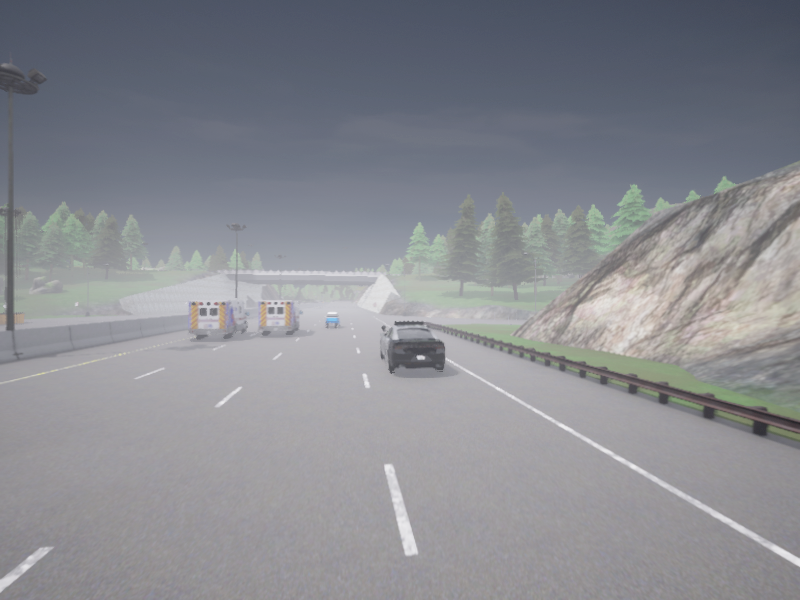vehicle: (380, 321, 445, 372), (187, 300, 249, 338), (257, 300, 302, 334), (324, 312, 340, 327)
